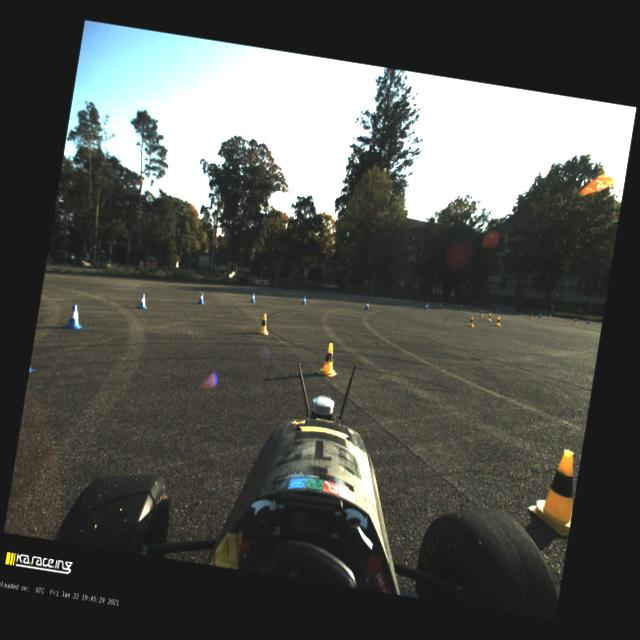blue_cone: (64, 303, 86, 330), (136, 292, 148, 310), (196, 291, 206, 305), (250, 292, 256, 304), (28, 365, 36, 374), (301, 296, 308, 306), (364, 300, 370, 310), (424, 304, 428, 310), (438, 302, 442, 308), (539, 312, 543, 318), (587, 318, 591, 324), (460, 304, 463, 309), (496, 308, 498, 312)
yellow_cone: (525, 446, 581, 536), (318, 342, 341, 378), (257, 314, 271, 336), (468, 316, 476, 328), (495, 316, 502, 327), (487, 312, 492, 322), (528, 312, 534, 320), (479, 309, 484, 317), (574, 318, 578, 326)
